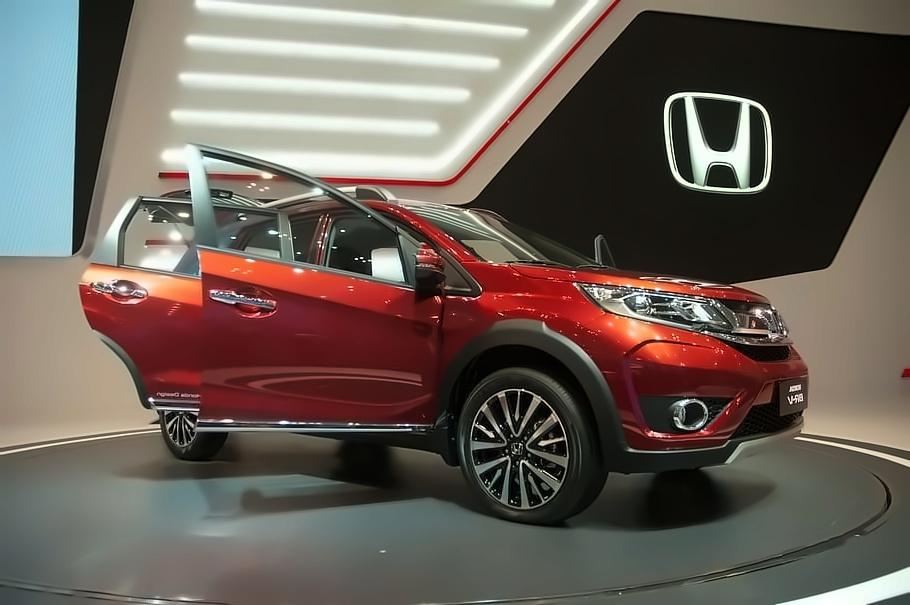Car hood: (508, 258, 770, 304)
Driver-s door - -F-R-: (181, 134, 441, 452)
Fender - -F-R-: (425, 259, 607, 435)
Front bumper: (575, 315, 815, 476)
Headlight - -R-: (578, 281, 737, 338)
Passenger-s door - -R-R-: (79, 190, 250, 424)
Side mirror - -R-: (410, 243, 450, 305)
